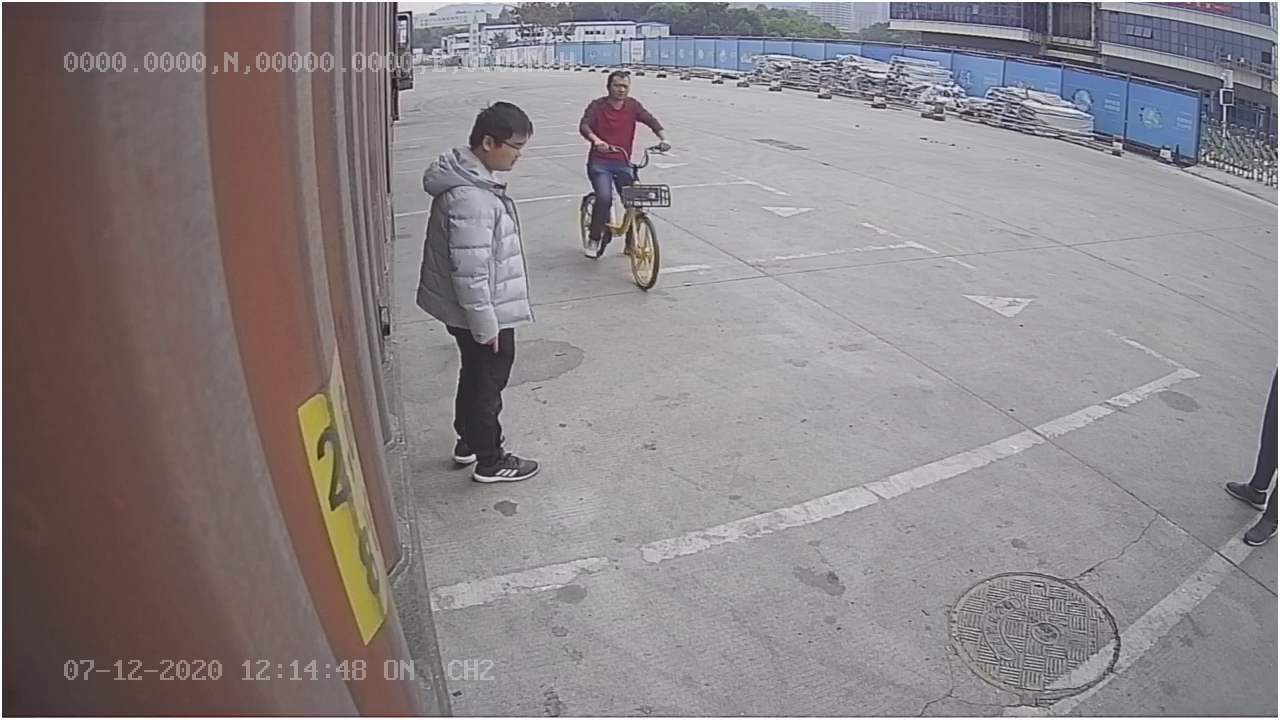person: (419, 101, 552, 485)
